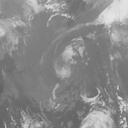cyclone: (49, 32, 89, 81)
